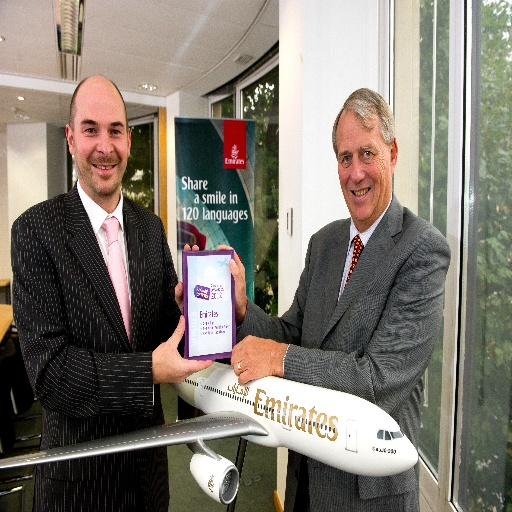hand: (151, 314, 213, 390), (216, 241, 250, 318), (235, 337, 285, 386), (173, 240, 199, 317)
